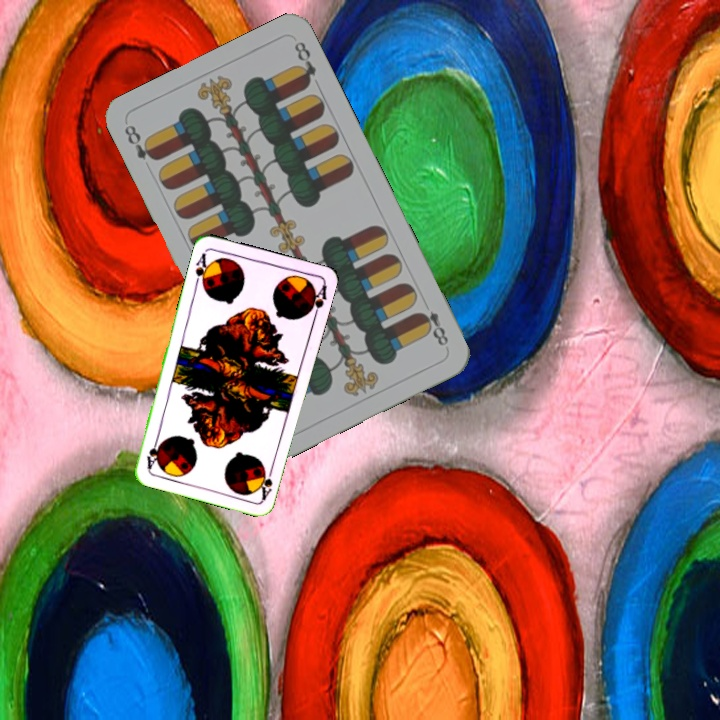E8: (120, 120, 160, 164), (414, 307, 451, 349)
SA: (191, 249, 213, 289), (255, 462, 276, 502)
